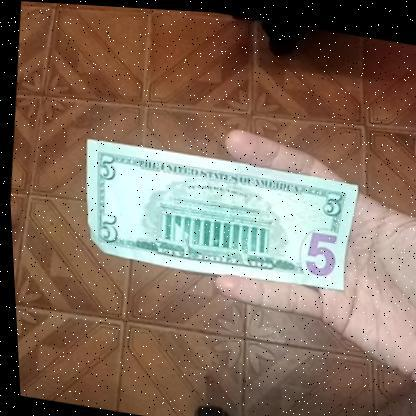five-back: (72, 134, 365, 294)
